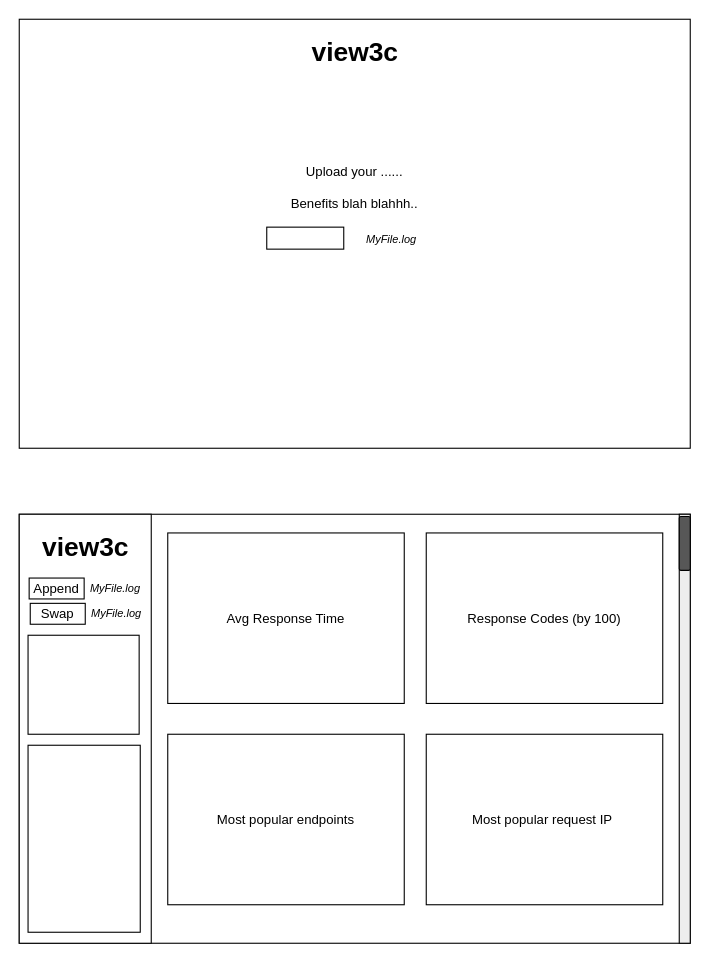
This 710x963 diagram has some shape labels left out. The centre of each missing label's shape, as x and y in pixels:
"Add Graphs" goes at point (83, 838).
"File Metadata" goes at point (83, 684).
"Upload" goes at point (305, 237).
